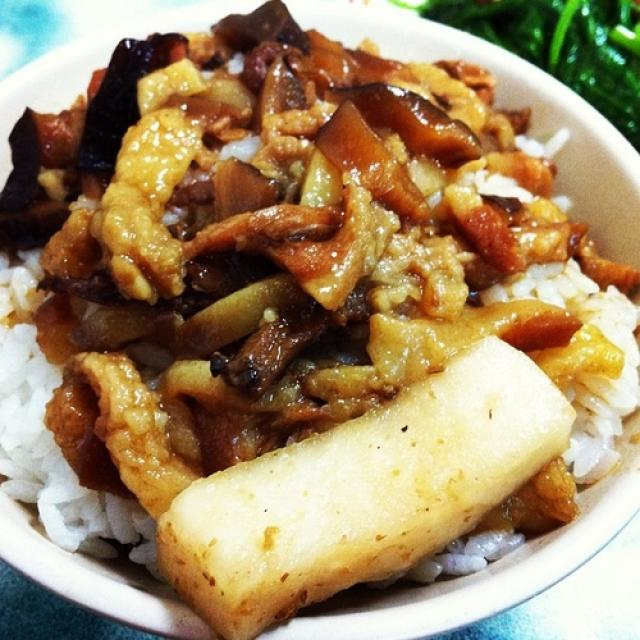猪肉菜式: (9, 13, 631, 623)
